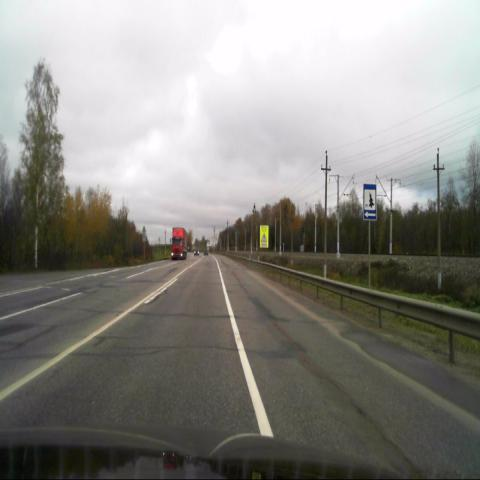7_11: (362, 183, 376, 221)
